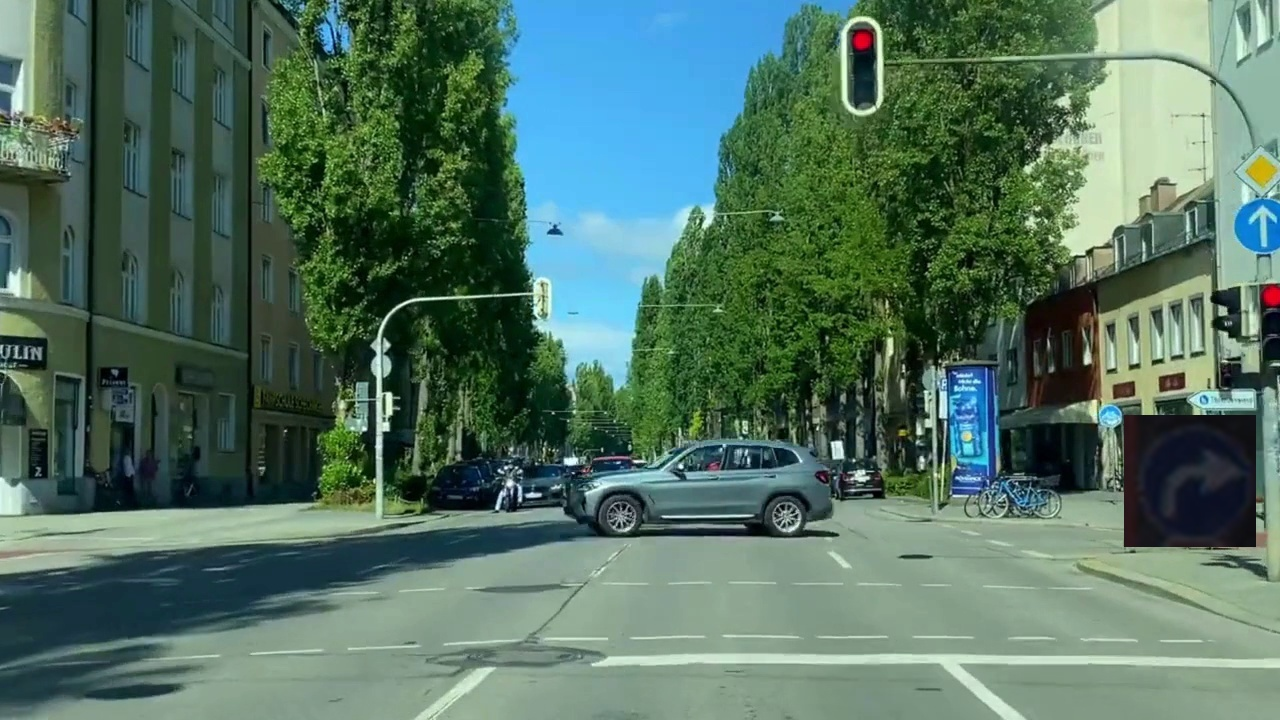Turn right: (1124, 415, 1256, 547)
